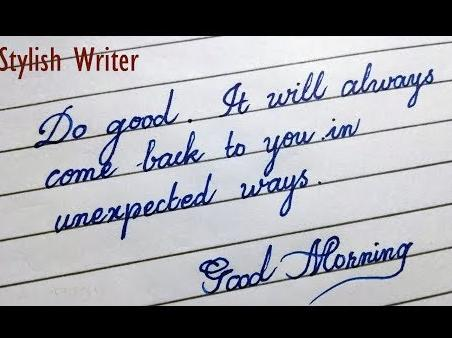text: (32, 60, 435, 166), (43, 115, 362, 190), (52, 166, 323, 243), (199, 234, 415, 306), (0, 44, 140, 80)
